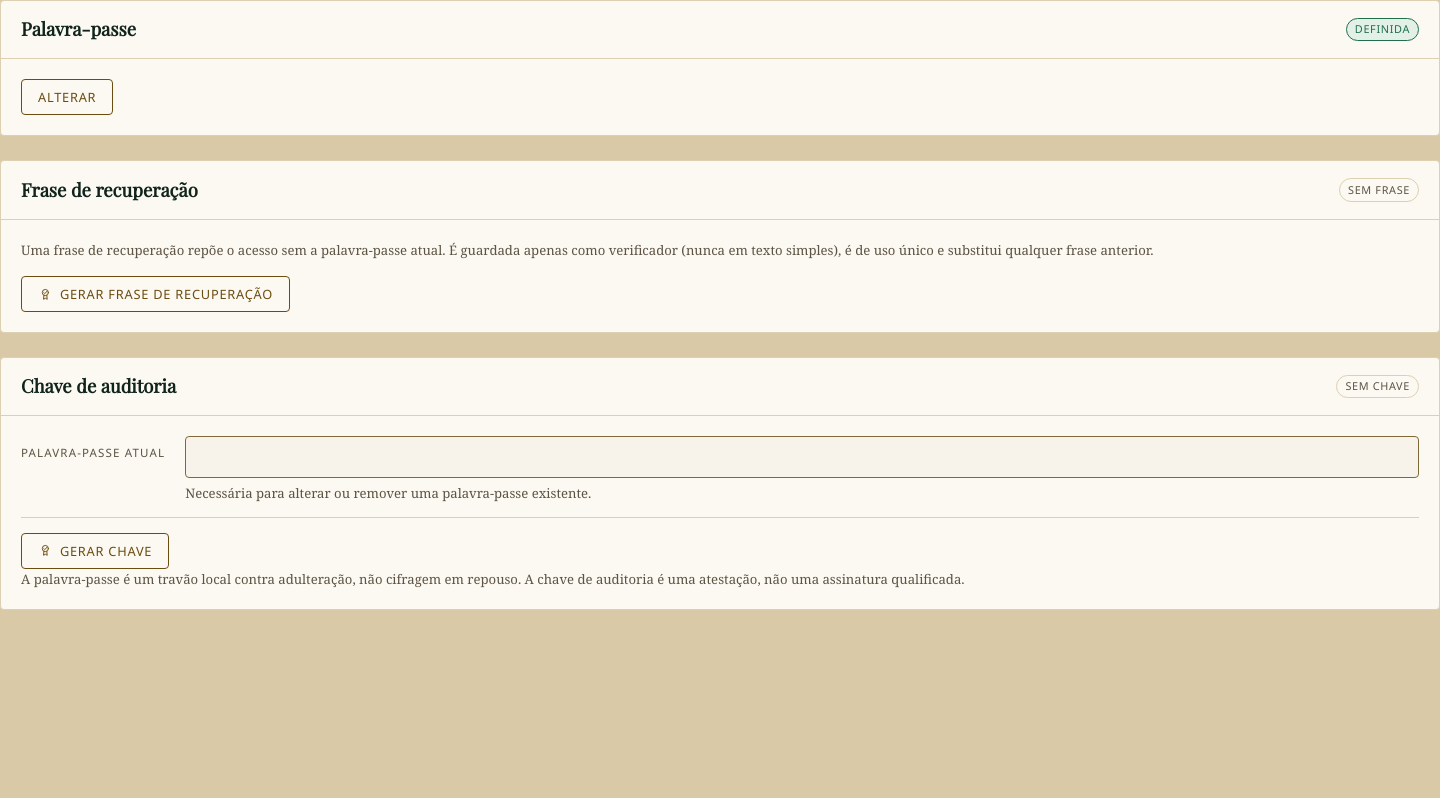
UserAccessManager — a wrong current password is a field error, not a sign-out › refuses a self-service password change inline and keeps the session
Click the button "Alterar".
click(67, 97)  # box [21, 79, 113, 115]
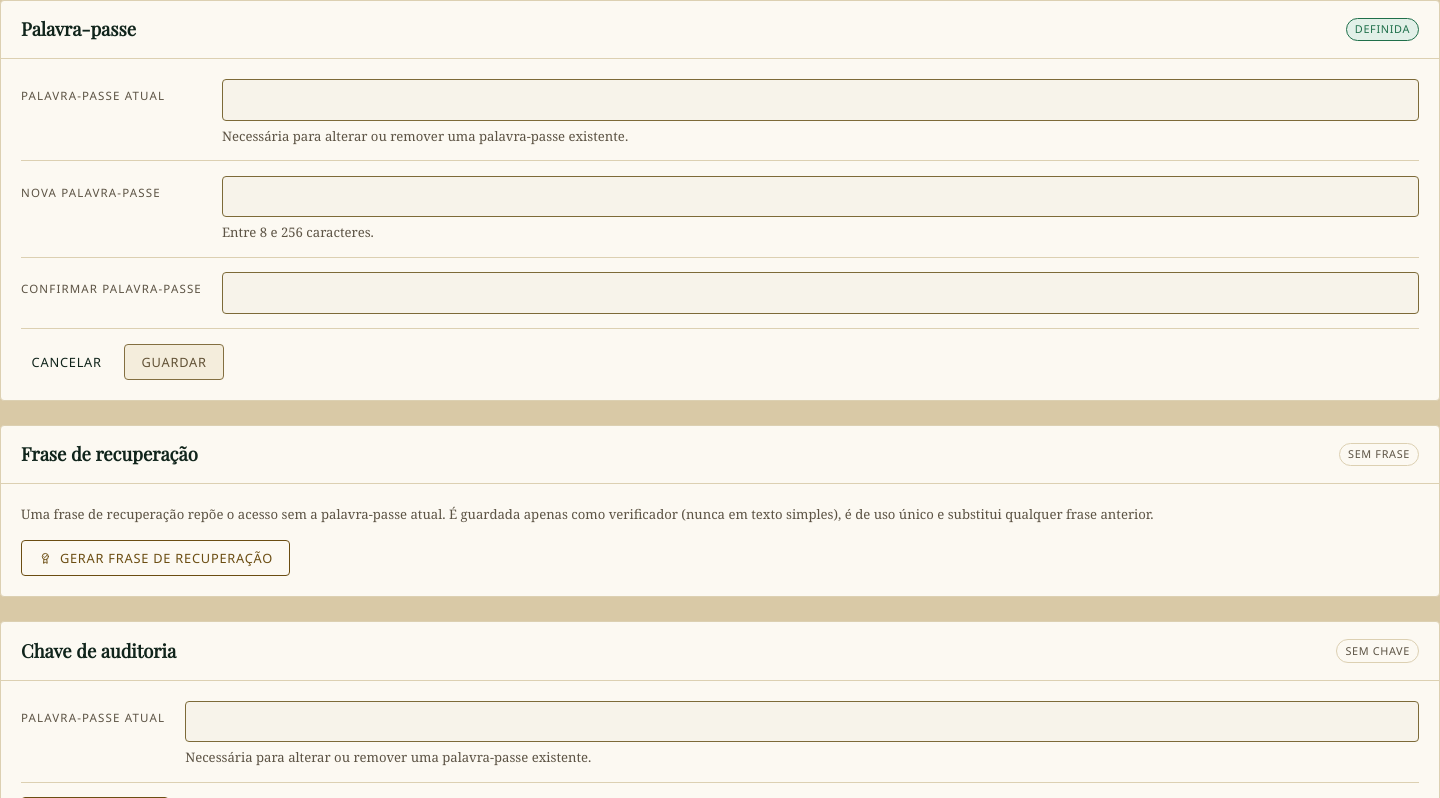
Type "errada" into the password field labelled "Palavra-passe atual" below "Definida".
click(820, 100); type("errada")  # box [222, 79, 1419, 121]
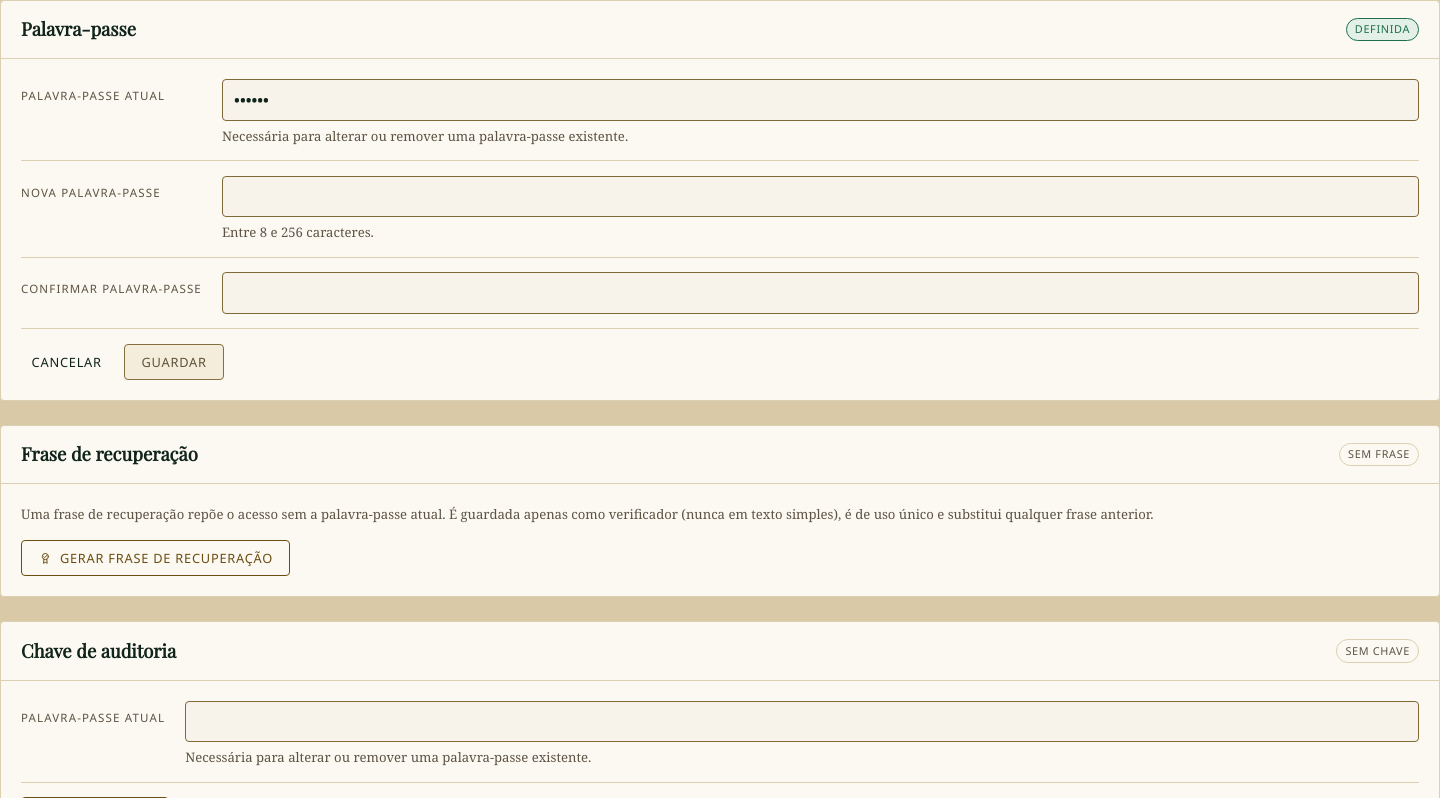
Type "novapalavra1" into the password field labelled "Nova palavra-passe".
click(820, 197); type("novapalavra1")  # box [222, 176, 1419, 217]
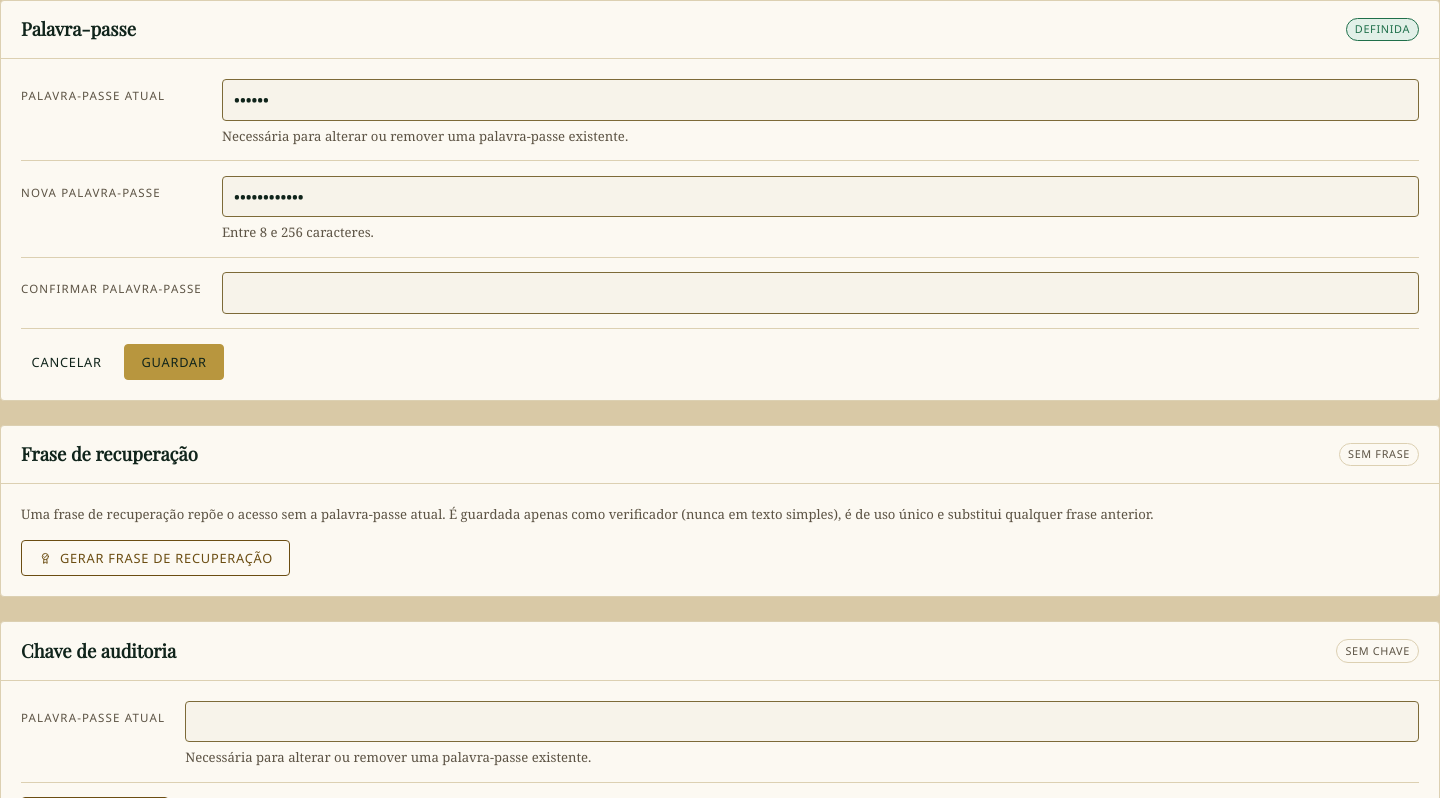
Type "novapalavra1" into the password field labelled "Confirmar palavra-passe".
click(820, 293); type("novapalavra1")  # box [222, 272, 1419, 314]
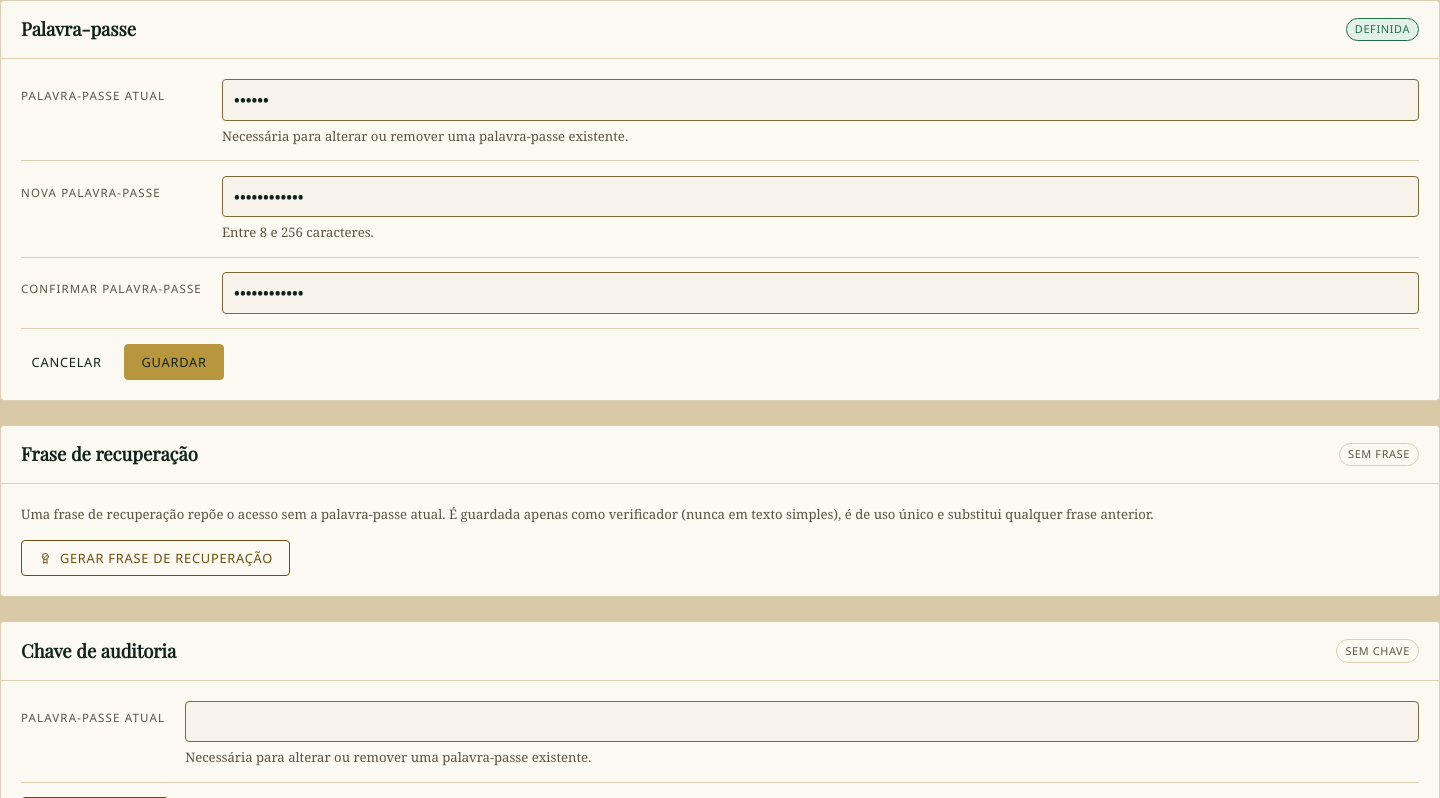
Click the button "Guardar".
click(174, 362)  # box [124, 344, 224, 380]
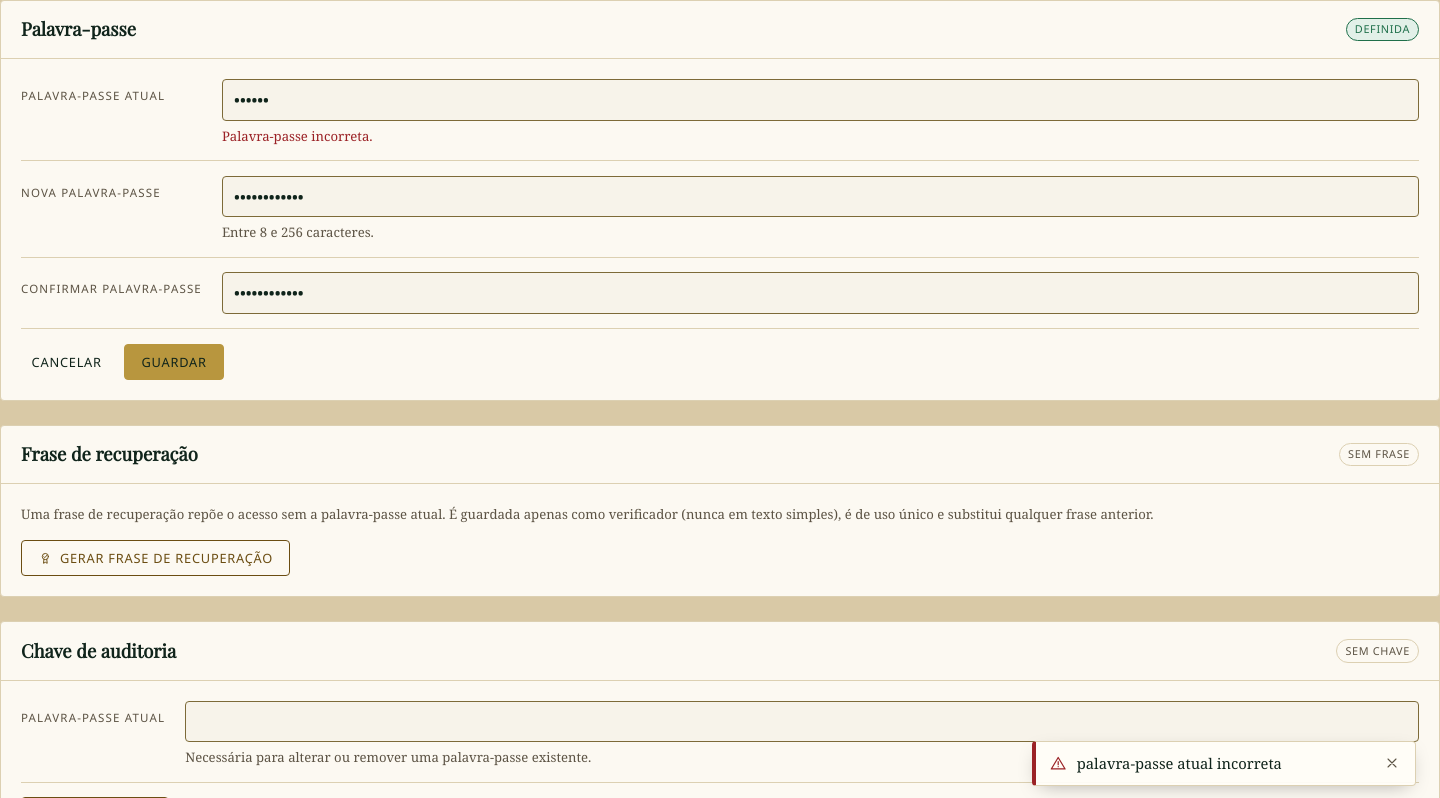
Result: the text "Palavra-passe incorreta." is shown at [222, 127, 373, 145]
